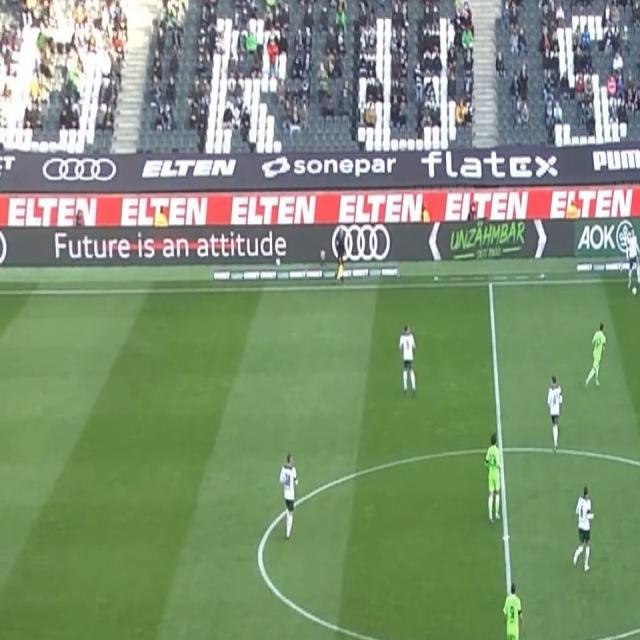ball: (631, 284, 638, 297)
